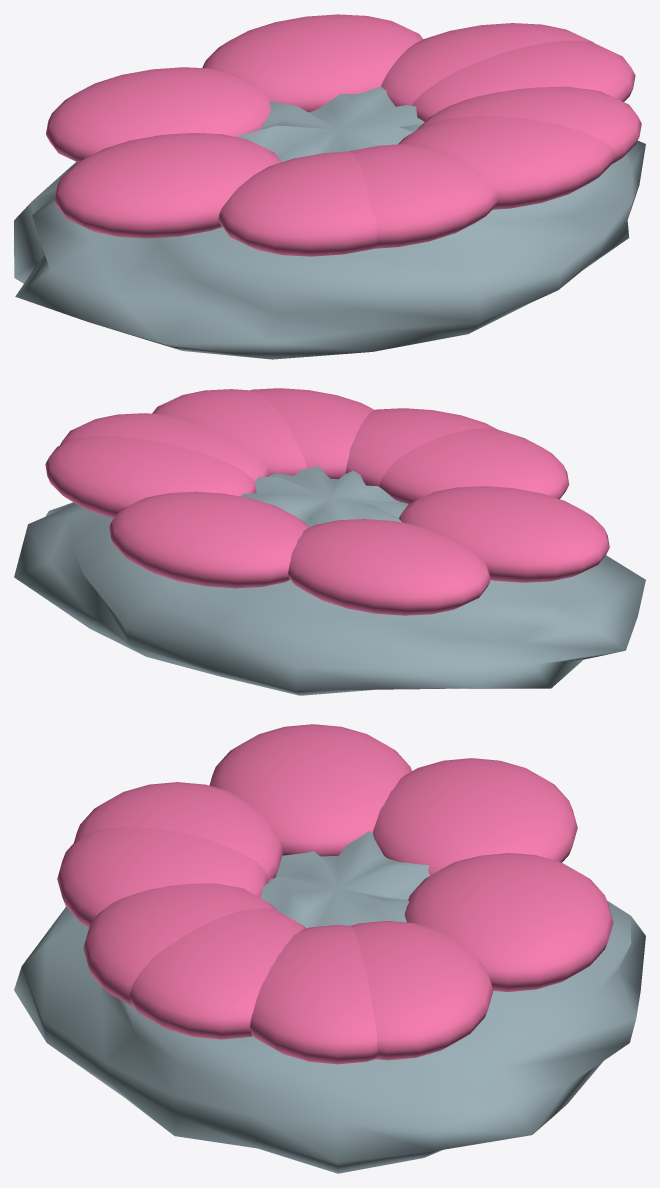
File: underwater-reef-worlds-coralline-crust-0fad2e51__7042.glb
3 renders of one model, top to bottom at view 1: azimuth 30°, elevation 25°; view 2: azimuth 150°, elevation 25°; view 3: azimuth 270°, elevation 25°, orthographic. The views are drawn at different scales.
Parts seen in each view (by area): view 1: coralline-crust; view 2: coralline-crust; view 3: coralline-crust.
Part boxes in pixels (x1,y1,x2,y2): coralline-crust: (14,14,645,359); coralline-crust: (14,388,645,695); coralline-crust: (14,724,645,1173).
Size of the model in its own units: 0.9425 by 0.195 by 0.7153.
